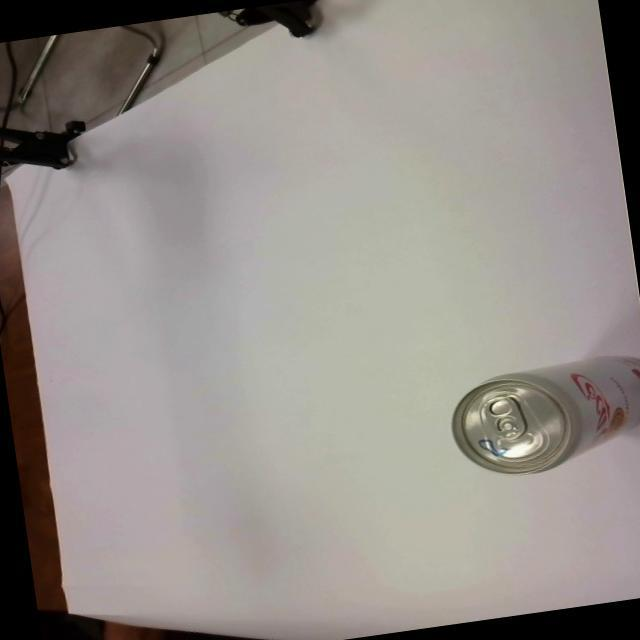debris: (443, 347, 640, 484)
